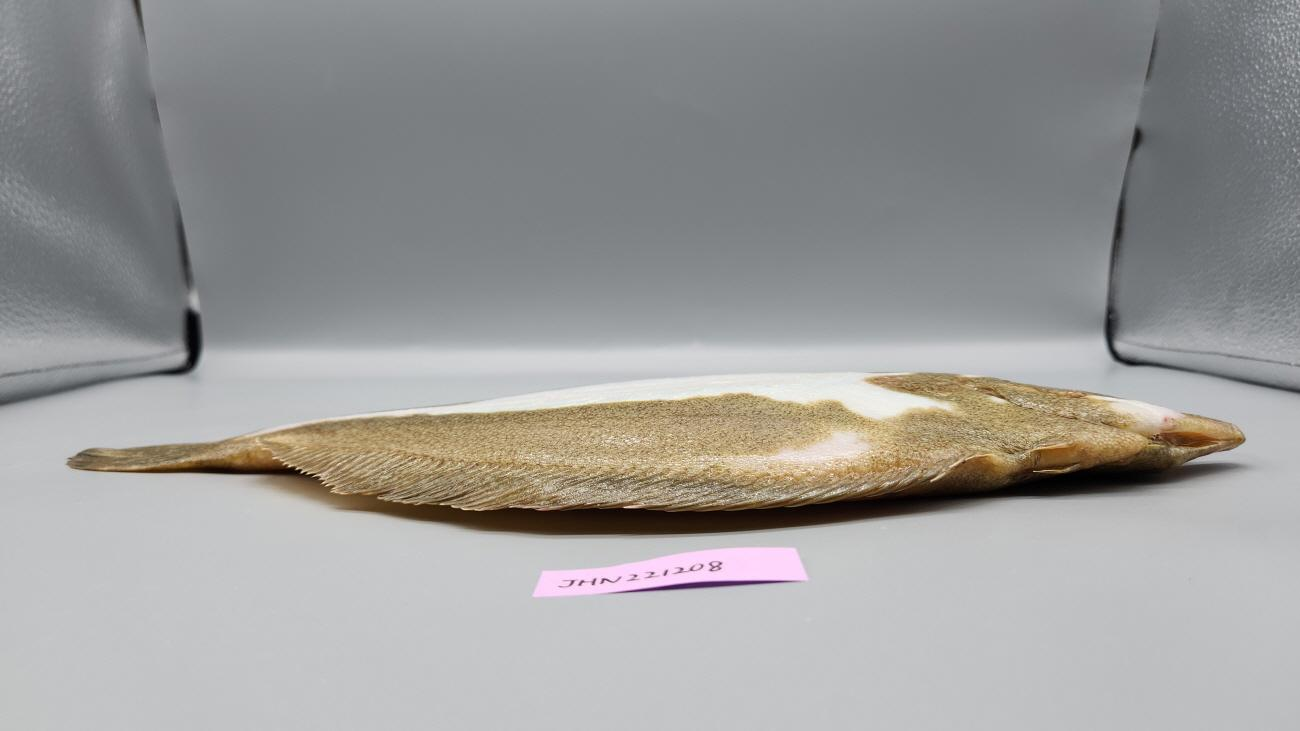POOUN: (64, 370, 1248, 512)
